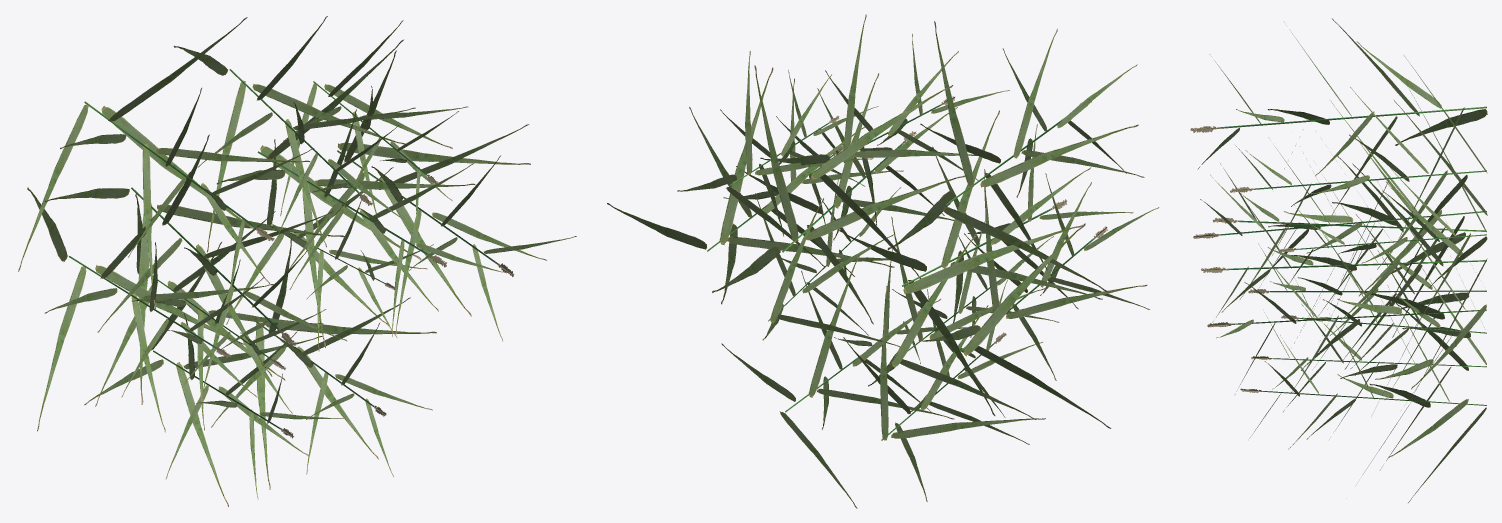
File: Elymus.obj
The picture shows the model from 3 angles, left to right: view 1: azimuth 30°, elevation 25°; view 2: azimuth 150°, elevation 25°; view 3: azimuth 270°, elevation 25°; orthographic projection. The views are drawn at different scales.
Visible parts, largest first — view 1: Group; view 2: Group; view 3: Group.
Boxes of the visible parts, bbox=[...] form: Group: bbox=[18, 16, 576, 506]; Group: bbox=[607, 14, 1159, 508]; Group: bbox=[1190, 18, 1487, 502].
Bounding box in the file's own units: 3.51 × 3.25 × 1.96.
Materials: 3 (3 with a texture image).
